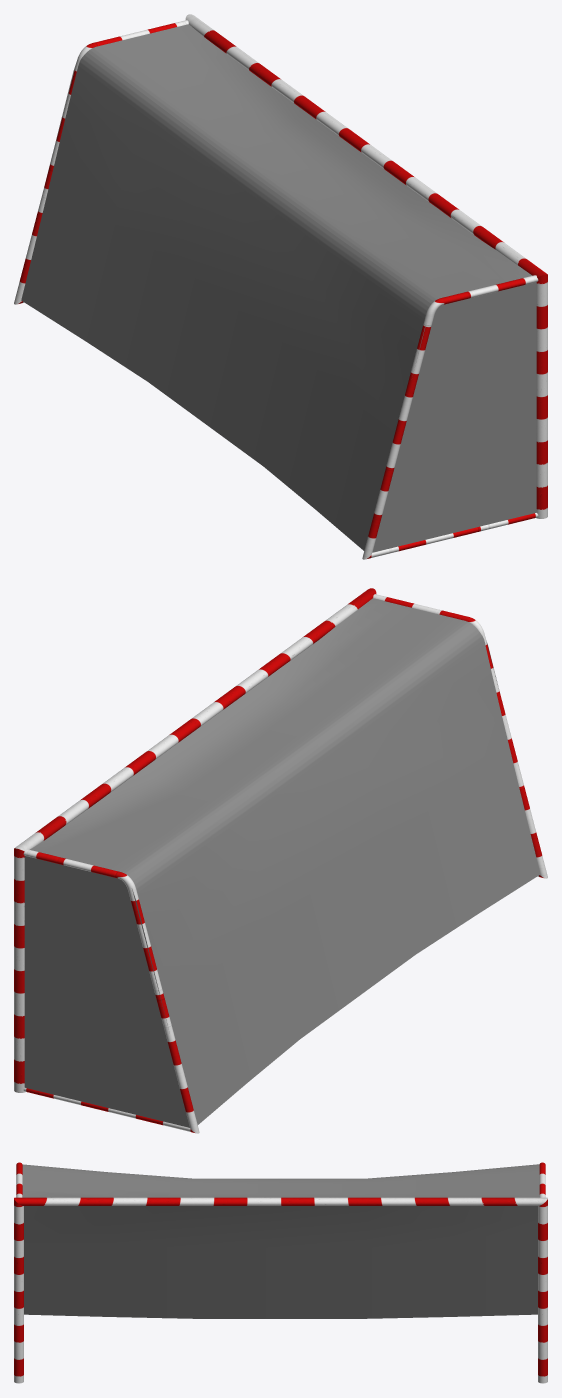
File: SportGates02.FBX
3 views of the same model, one above another, from view 1: azimuth 30°, elevation 25°; view 2: azimuth 150°, elevation 25°; view 3: azimuth 270°, elevation 25° (orthographic). The views are drawn at different scales.
Visible parts, largest first — view 1: Gates002, Shape01; view 2: Gates002, Shape01; view 3: Gates002, Shape01.
Boxes of the visible parts, <box> form: Gates002: <box>21,24,536,552</box>; Shape01: <box>14,14,547,559</box>; Gates002: <box>24,598,540,1127</box>; Shape01: <box>14,588,547,1133</box>; Gates002: <box>22,1164,539,1318</box>; Shape01: <box>14,1162,547,1383</box>.
Bounding box in the file's own units: 123 × 155 × 411.
